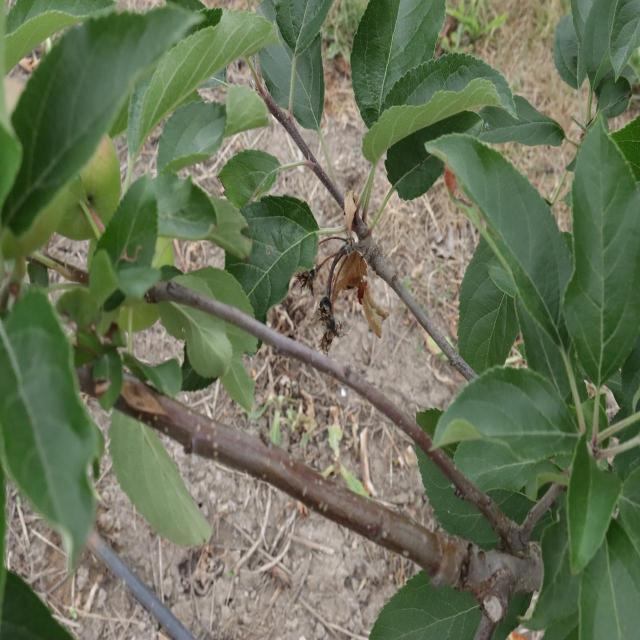-FireBlight-: (338, 242, 384, 331)
